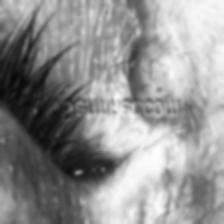Potentially Malignant Skin Tumors: (125, 36, 188, 130)
